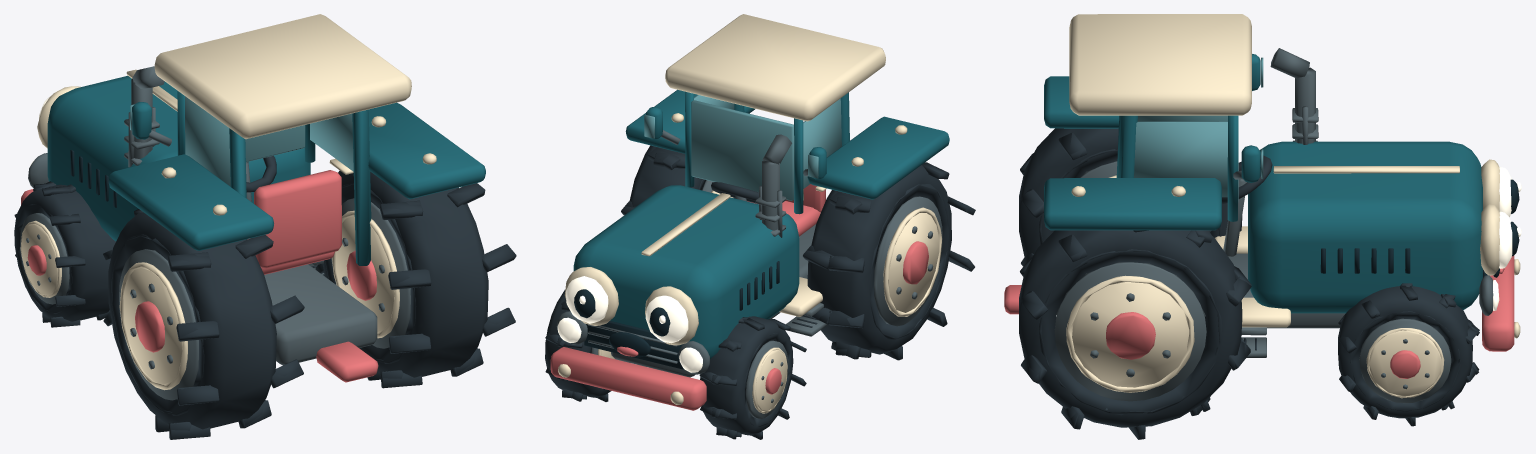
The model's file is tatu_mobile.glb.
3 renders of one model, left to right at view 1: azimuth 30°, elevation 25°; view 2: azimuth 150°, elevation 25°; view 3: azimuth 270°, elevation 25°, orthographic. The views are drawn at different scales.
Parts seen in each view (by area): view 1: Body, WheelRL, Roof, WheelRR, Hood, WheelFL, Eyes; view 2: Roof, Hood, WheelRL, Body, WheelFL, Eyes, Bumper, WheelRR, WheelFR; view 3: WheelRR, Hood, Roof, Body, WheelFR, WheelRL, Eyes, Bumper.
Boxes of the visible parts, x1,y1,x2,y2 form: Body: (28,66,485,382); WheelRL: (103,209,304,439); Roof: (154,14,411,265); WheelRR: (315,170,516,388); Hood: (47,69,310,241); WheelFL: (14,181,115,327); Eyes: (37,86,80,148); Roof: (665,14,885,214); Hood: (573,185,799,369); WheelRL: (803,162,975,360); Body: (556,89,949,377); WheelFL: (699,316,806,439); Eyes: (565,267,698,345); Bumper: (550,347,706,410); WheelRR: (621,145,733,215); WheelFR: (545,290,614,401); WheelRR: (1019,230,1251,439); Hood: (1248,141,1487,313); Roof: (1069,14,1251,221); Body: (1004,48,1504,357); WheelFR: (1338,283,1479,426); WheelRL: (1019,128,1242,266); Eyes: (1480,159,1521,275); Bumper: (1482,255,1520,351).
Bounding box in the file's own units: 3.18 × 2.95 × 4.29.
